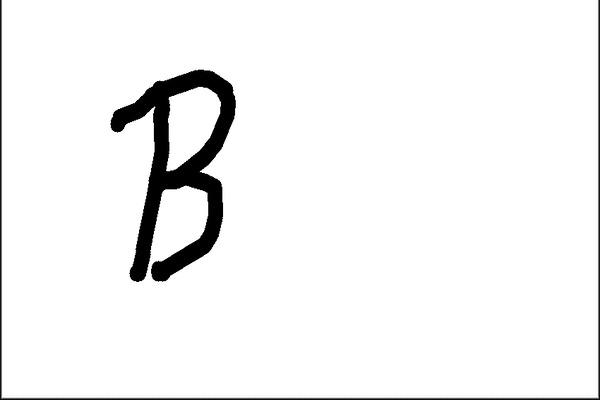B: (99, 58, 247, 291)
